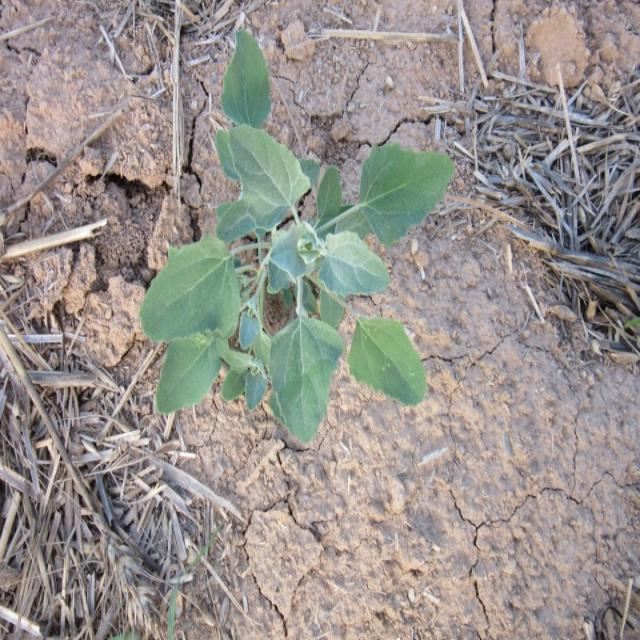ca: (146, 126, 456, 447)
